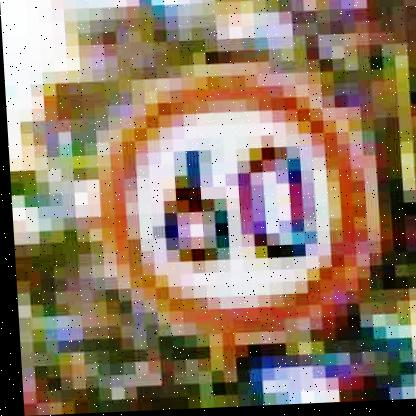Speed Limit -60-: (87, 74, 385, 349)
